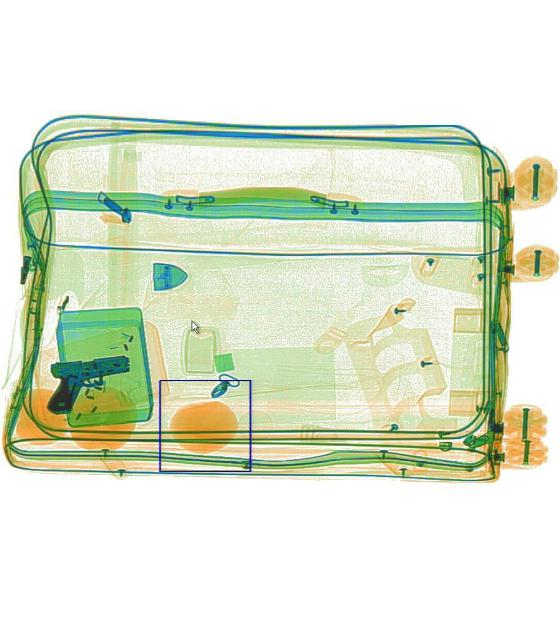Gun: (44, 354, 132, 412)
